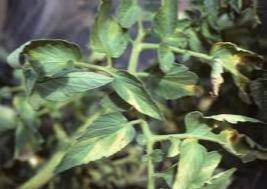Tomato mold leaf: (54, 110, 139, 174), (114, 68, 171, 125), (15, 38, 88, 76), (149, 59, 212, 99), (91, 3, 131, 60), (172, 141, 209, 188)
